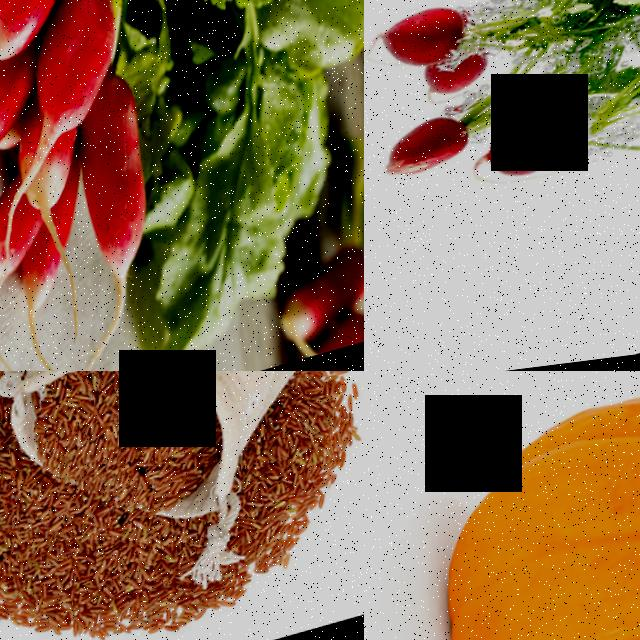pumpkin: (405, 371, 640, 640)
radishes: (0, 0, 233, 358), (378, 86, 535, 185), (371, 0, 540, 91)
red rice: (0, 430, 200, 640), (38, 371, 218, 536), (228, 381, 364, 578)
